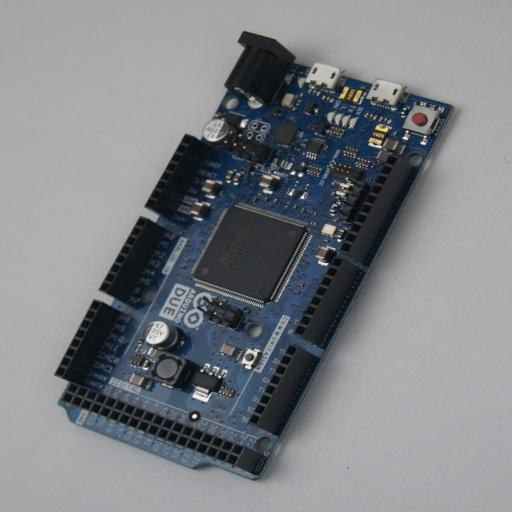Arduino Due: (54, 31, 456, 481)
